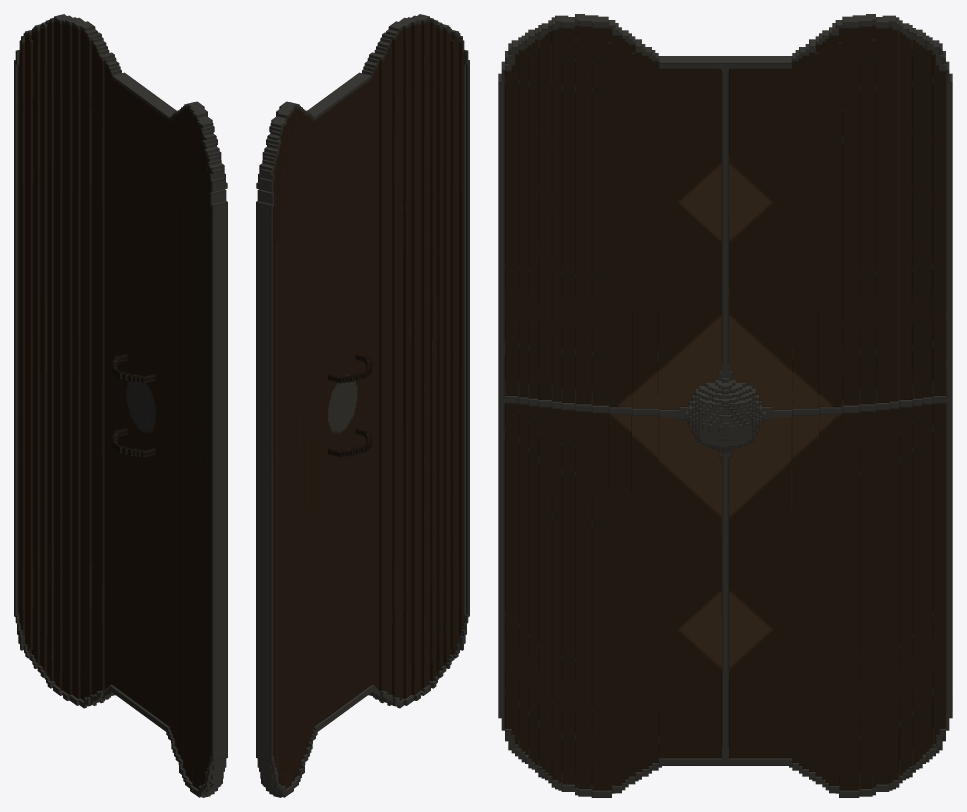
File: Greatshield1_Diamonds.obj
The picture shows the model from 3 angles, left to right: view 1: azimuth 30°, elevation 25°; view 2: azimuth 150°, elevation 25°; view 3: azimuth 270°, elevation 25°; orthographic projection. The views are drawn at different scales.
Parts seen in each view (by area): view 1: Greatshield1_Diamonds; view 2: Greatshield1_Diamonds; view 3: Greatshield1_Diamonds.
Boxes of the visible parts, box(x1,y1,x2,y2) form: Greatshield1_Diamonds: box(14, 14, 227, 797); Greatshield1_Diamonds: box(256, 14, 469, 797); Greatshield1_Diamonds: box(498, 14, 952, 797).
Bounding box in the file's own units: 27 × 256 × 136.
1 material, 1 textured.
